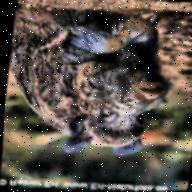boar: (2, 5, 192, 164)
